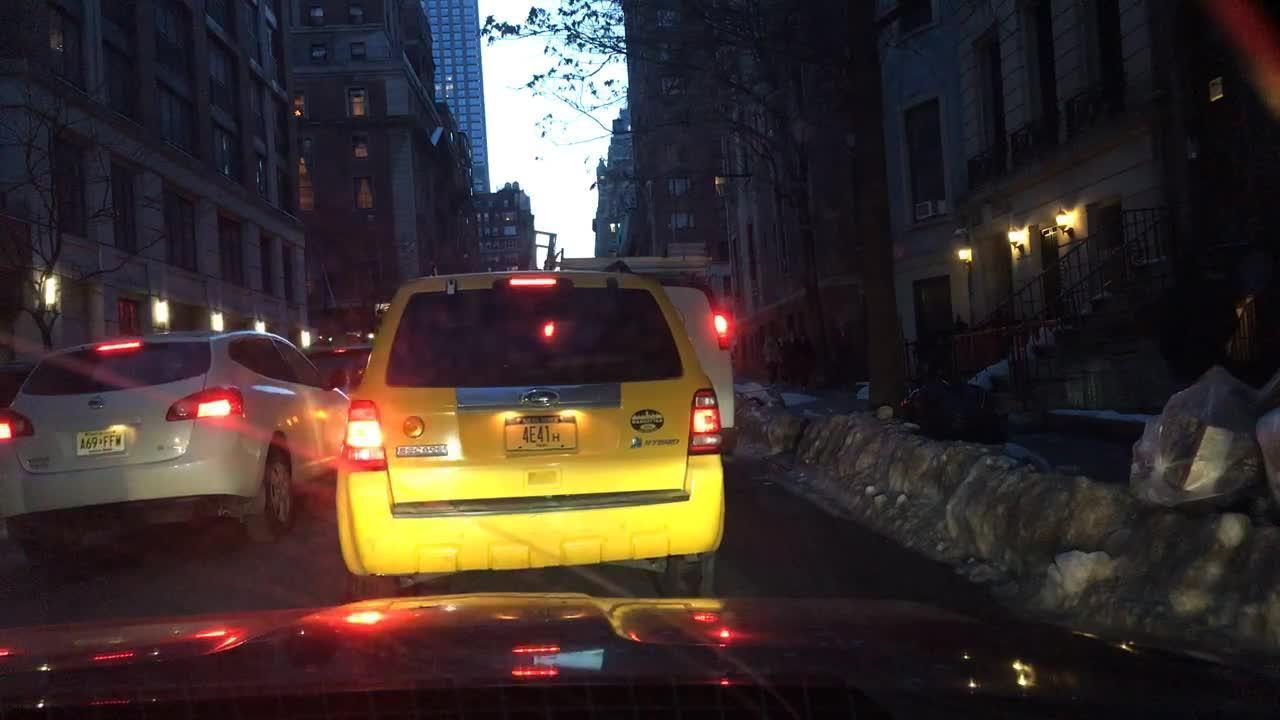Nissan: (78, 388, 117, 424)
ford: (517, 381, 569, 417)
